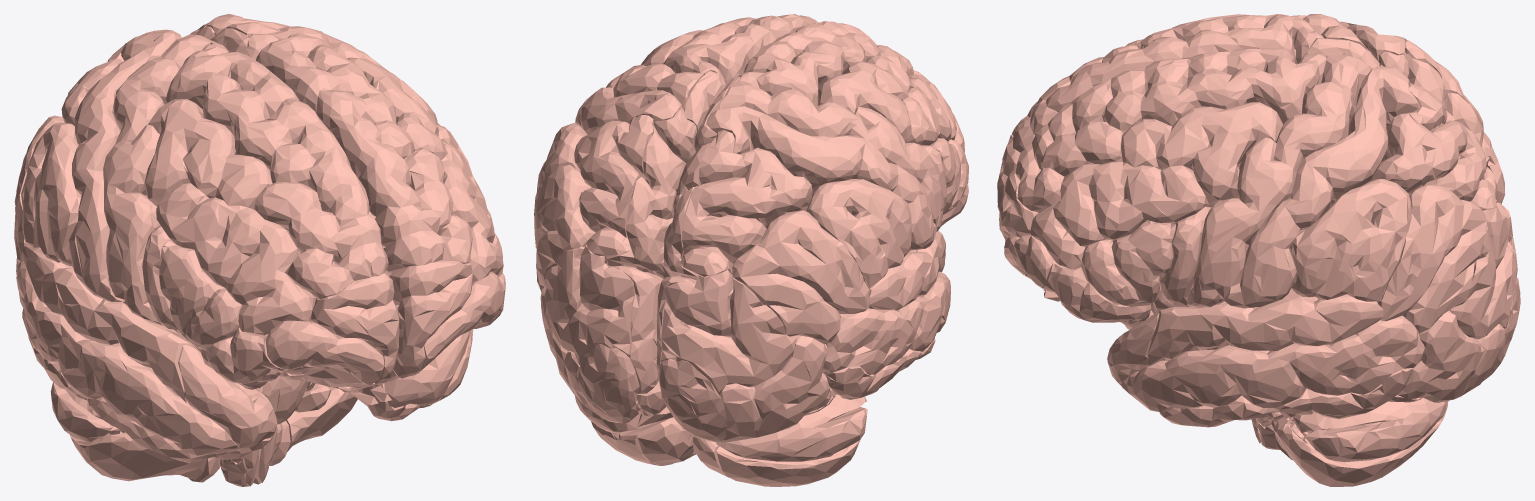
The model's file is brain.glb.
3 renders of one model, left to right at view 1: azimuth 30°, elevation 25°; view 2: azimuth 150°, elevation 25°; view 3: azimuth 270°, elevation 25°, orthographic. The views are drawn at different scales.
Visible parts, largest first — view 1: Allen_superior_frontal_gyrus_L, Allen_middle_frontal_gyrus_L, Allen_superior_frontal_gyrus_R, Allen_middle_temporal_gyrus_L, Allen_primary_motor_cortex_L, Allen_postcentral_gyrus_L, Allen_superior_temporal_gyrus_L, Allen_middle_frontal_gyrus_R, Allen_supramarginal_gyrus_L, Allen_rostral_gyrus_R, Allen_lateral_hemisphere_of_cerebellum_L, Allen_inferior_frontal_gyrus_triangular_part_L (+19 smaller); view 2: Allen_angular_gyrus_L, Allen_supraparietal_lobule_L, Allen_superior_occipital_gyrus_L, Allen_postcentral_gyrus_L, Allen_lateral_hemisphere_of_cerebellum_L, Allen_superior_occipital_gyrus_R, Allen_primary_motor_cortex_L, Allen_supraparietal_lobule_R, Allen_supramarginal_gyrus_L, Allen_middle_frontal_gyrus_L, Allen_superior_frontal_gyrus_L, Allen_middle_temporal_gyrus_L (+24 smaller); view 3: Allen_middle_frontal_gyrus_R, Allen_superior_frontal_gyrus_R, Allen_middle_temporal_gyrus_R, Allen_primary_motor_cortex_R, Allen_postcentral_gyrus_R, Allen_supramarginal_gyrus_R, Allen_angular_gyrus_R, Allen_superior_temporal_gyrus_R, Allen_lateral_hemisphere_of_cerebellum_R, Allen_superior_frontal_gyrus_L, Allen_supraparietal_lobule_R, Allen_inferior_frontal_gyrus_triangular_part_R (+16 smaller).
Boxes of the visible parts, left/top/right/bottom form: Allen_superior_frontal_gyrus_L: left=165, top=43, right=388, bottom=304; Allen_middle_frontal_gyrus_L: left=144, top=99, right=315, bottom=335; Allen_superior_frontal_gyrus_R: left=247, top=30, right=472, bottom=273; Allen_middle_temporal_gyrus_L: left=16, top=260, right=239, bottom=455; Allen_primary_motor_cortex_L: left=103, top=34, right=210, bottom=325; Allen_postcentral_gyrus_L: left=68, top=29, right=180, bottom=301; Allen_superior_temporal_gyrus_L: left=22, top=245, right=194, bottom=403; Allen_middle_frontal_gyrus_R: left=347, top=57, right=503, bottom=282; Allen_supramarginal_gyrus_L: left=21, top=122, right=81, bottom=266; Allen_rostral_gyrus_R: left=389, top=260, right=473, bottom=378; Allen_lateral_hemisphere_of_cerebellum_L: left=50, top=382, right=206, bottom=481; Allen_inferior_frontal_gyrus_triangular_part_L: left=159, top=241, right=242, bottom=350; Allen_angular_gyrus_L: left=732, top=210, right=869, bottom=343; Allen_supraparietal_lobule_L: left=680, top=130, right=812, bottom=276; Allen_superior_occipital_gyrus_L: left=661, top=269, right=796, bottom=393; Allen_postcentral_gyrus_L: left=706, top=106, right=936, bottom=250; Allen_lateral_hemisphere_of_cerebellum_L: left=716, top=394, right=867, bottom=486; Allen_superior_occipital_gyrus_R: left=544, top=245, right=635, bottom=365; Allen_primary_motor_cortex_L: left=719, top=80, right=943, bottom=231; Allen_supraparietal_lobule_R: left=574, top=115, right=653, bottom=256; Allen_supramarginal_gyrus_L: left=806, top=179, right=911, bottom=288; Allen_middle_frontal_gyrus_L: left=818, top=55, right=964, bottom=152; Allen_superior_frontal_gyrus_L: left=738, top=21, right=926, bottom=106; Allen_middle_temporal_gyrus_L: left=822, top=271, right=950, bottom=374; Allen_middle_frontal_gyrus_R: left=1031, top=102, right=1283, bottom=269; Allen_superior_frontal_gyrus_R: left=1015, top=48, right=1326, bottom=212; Allen_middle_temporal_gyrus_R: left=1120, top=315, right=1424, bottom=411; Allen_primary_motor_cortex_R: left=1187, top=55, right=1370, bottom=307; Allen_postcentral_gyrus_R: left=1224, top=66, right=1419, bottom=308; Allen_supramarginal_gyrus_R: left=1289, top=179, right=1411, bottom=301; Allen_angular_gyrus_R: left=1377, top=184, right=1487, bottom=333; Allen_superior_temporal_gyrus_R: left=1146, top=294, right=1383, bottom=367; Allen_lateral_hemisphere_of_cerebellum_R: left=1266, top=397, right=1448, bottom=486; Allen_superior_frontal_gyrus_L: left=1012, top=14, right=1323, bottom=152; Allen_supraparietal_lobule_R: left=1370, top=82, right=1496, bottom=210; Allen_inferior_frontal_gyrus_triangular_part_R: left=1080, top=220, right=1175, bottom=306.
Size of the model in its own units: 0.1363 by 0.1461 by 0.1669.
